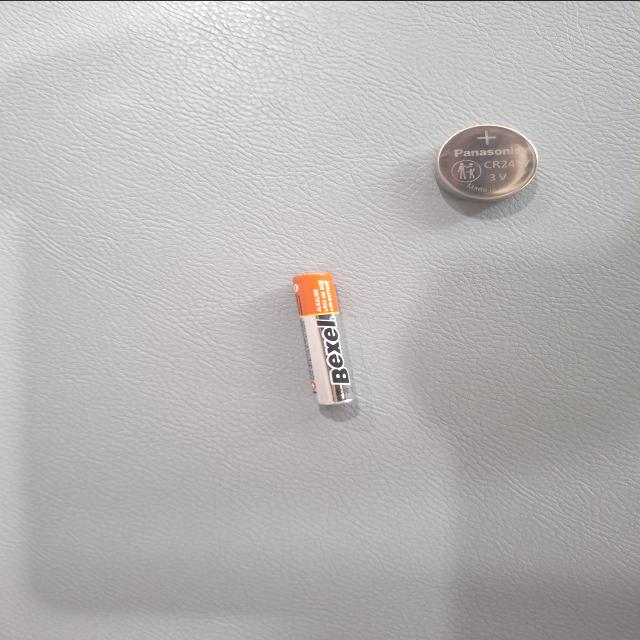AAA: (362, 373, 540, 422)
COIN: (165, 238, 268, 314)
